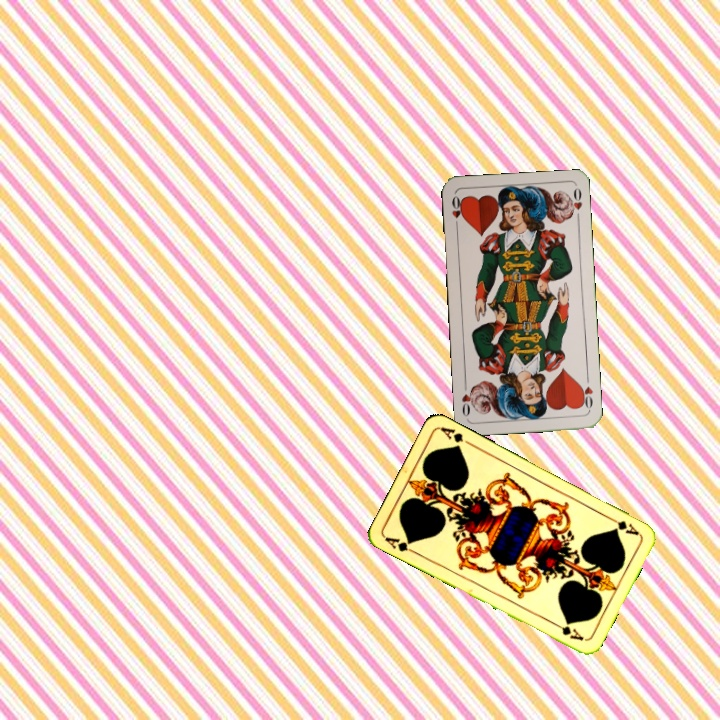GA: (604, 513, 641, 538), (381, 533, 419, 556)
HO: (576, 372, 595, 413), (448, 192, 466, 232)
